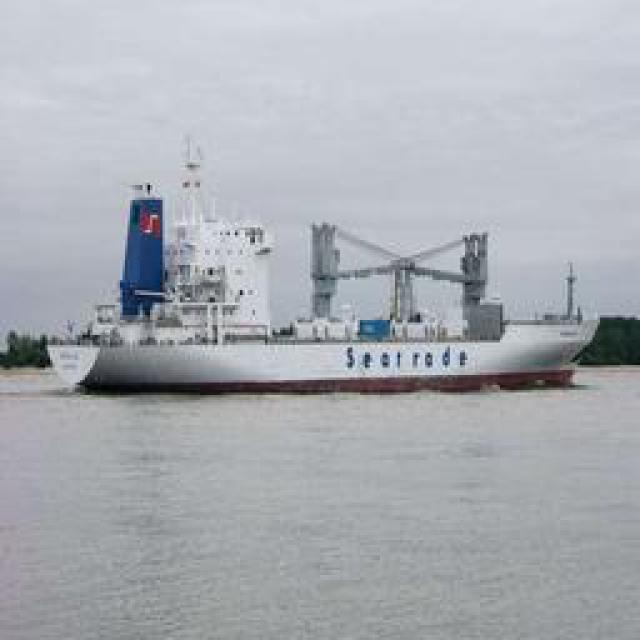Ship: (34, 193, 604, 401)
